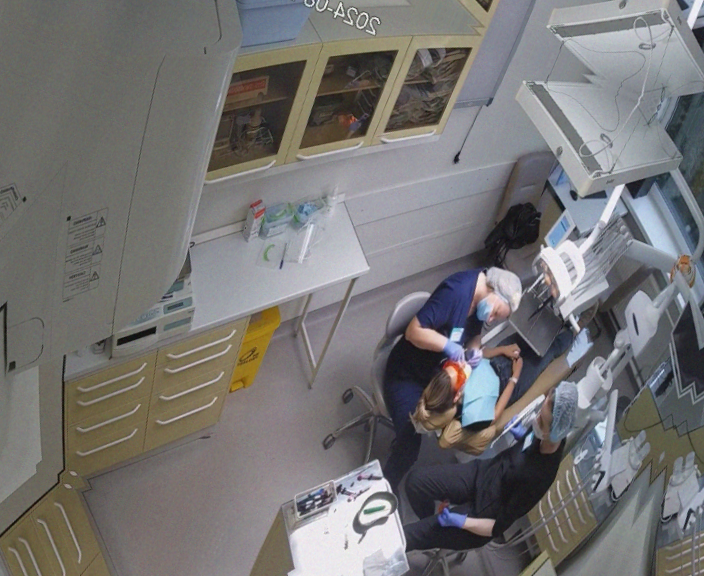Patient: (397, 253, 618, 493)
